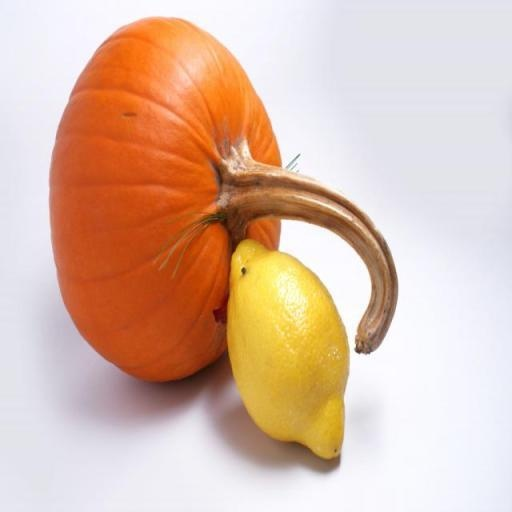fruit: (110, 171, 356, 512), (20, 126, 100, 458)
